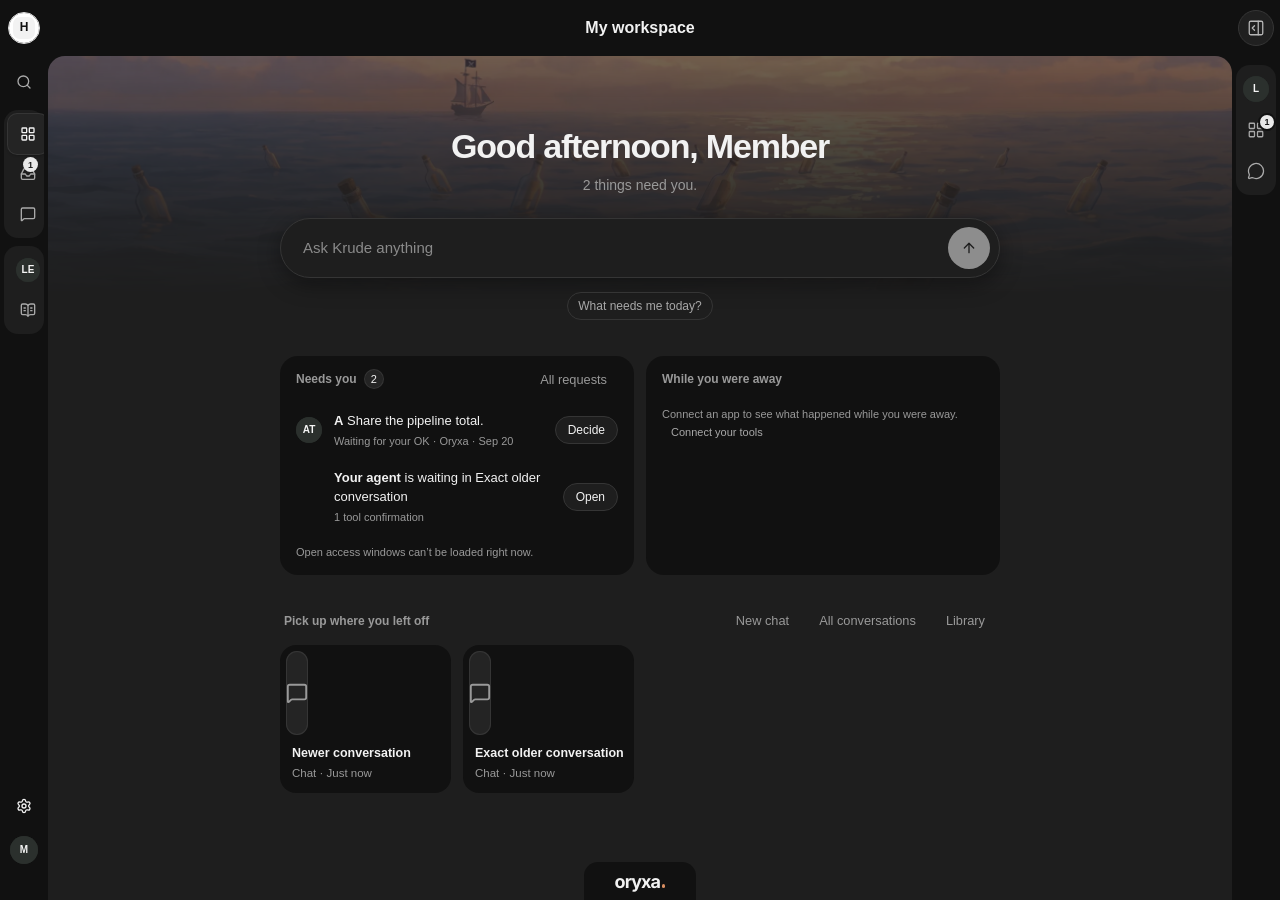
Test: Home's public primary-chat integration › counts the selected confirmation conversation once alongside Inbox requests and opens its actual chat
Click the button "Exact older conversation Chat · Just now": (548, 719) [463,645,634,793]
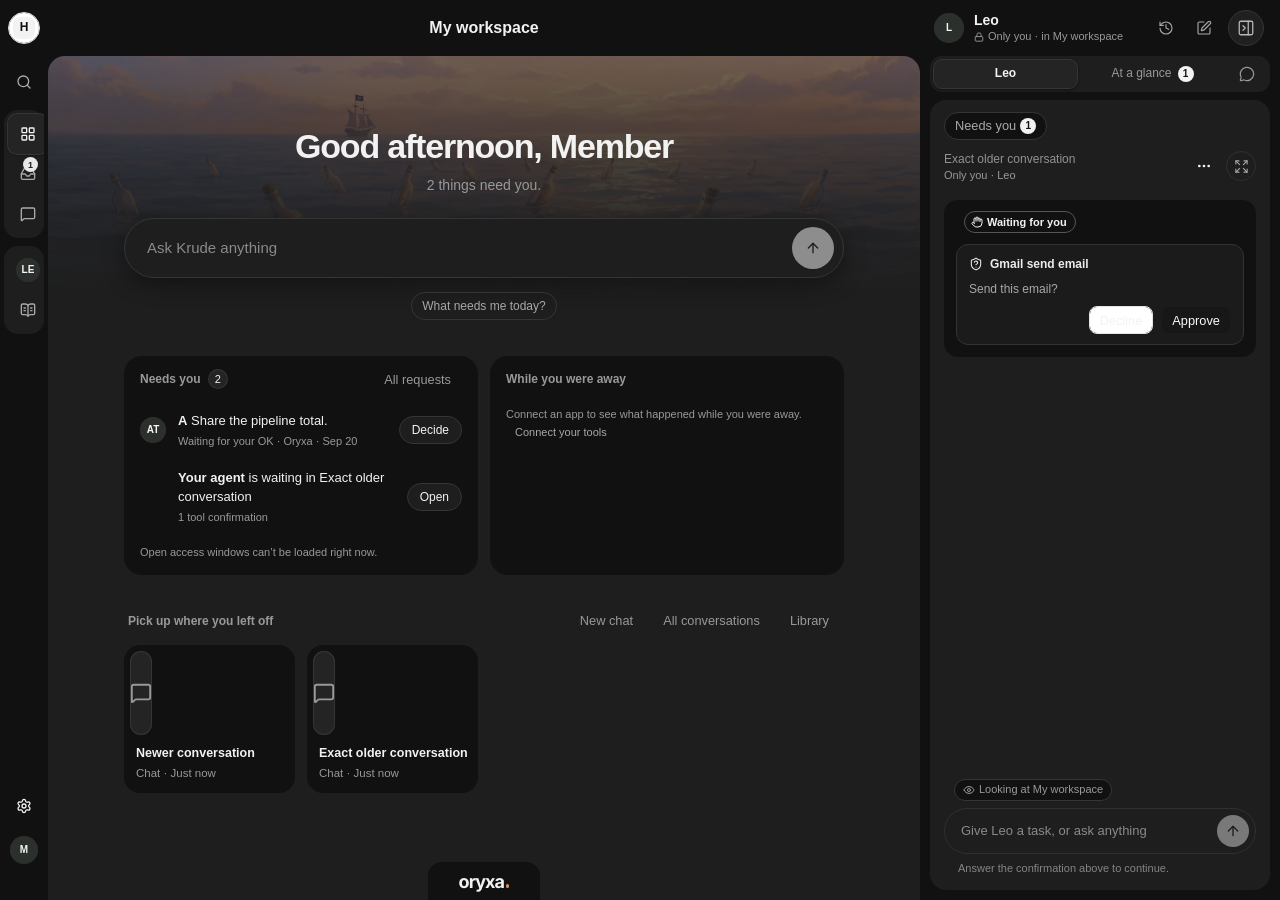
expect the text "1 tool confirmation" is shown: met, box [178,511,268,523]
expect the number of buttons named "Decide on " is 1: met, box [399,416,462,444]
expect the text "Your agent is waiting in Exact older conversation" is shown once: met, box [178,469,395,506]
Click the button "New chat": (606, 621) [569,607,644,635]
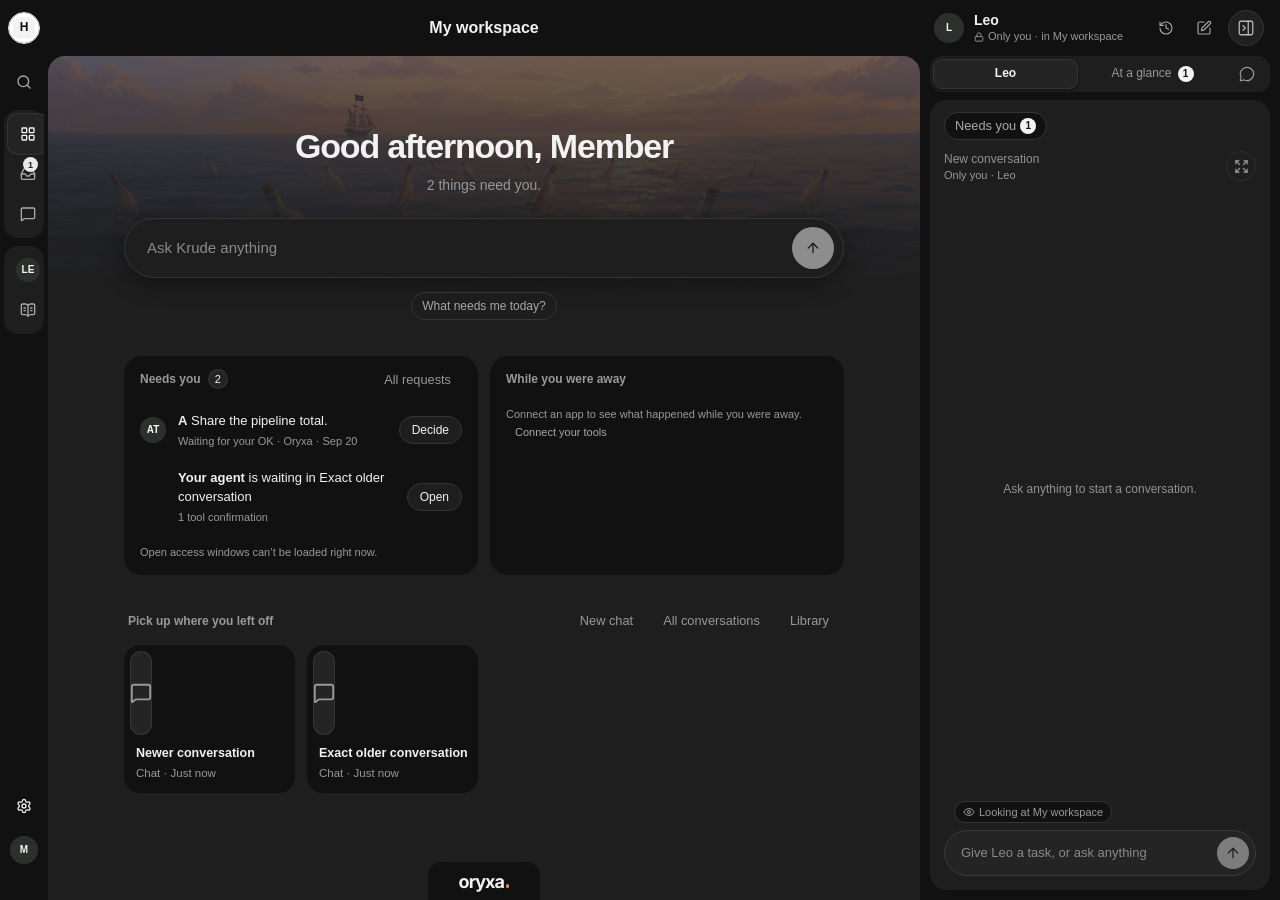
expect the text "Ask anything to start a conversation." is shown: met, box [1003,482,1197,496]
Click the button "Open": (434, 497) [407,483,462,511]
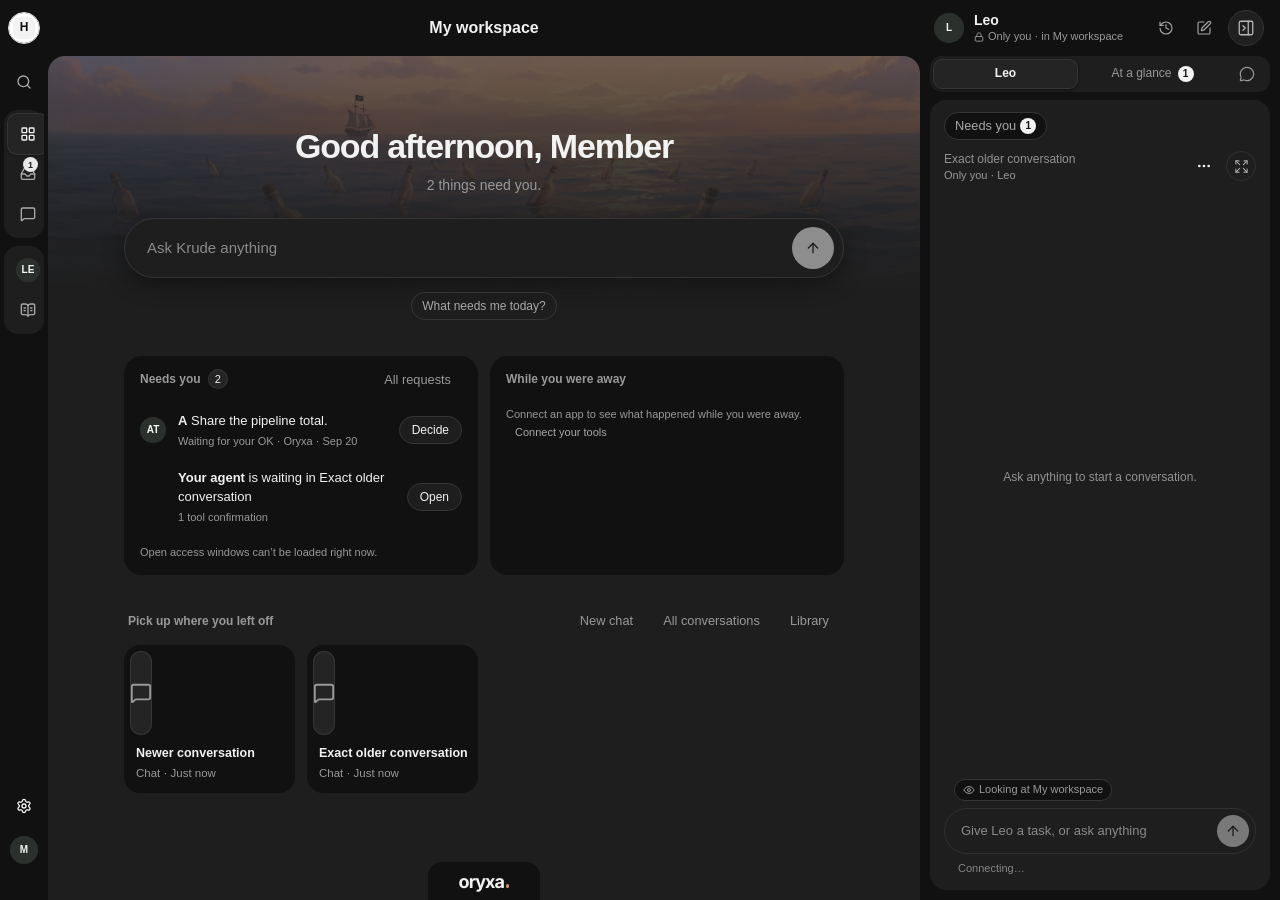
expect the text with class "workspace-agent-thread-title" reads "Exact older conversation": met, box [944,152,1075,166]
